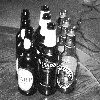beer: (38, 25, 62, 95)
